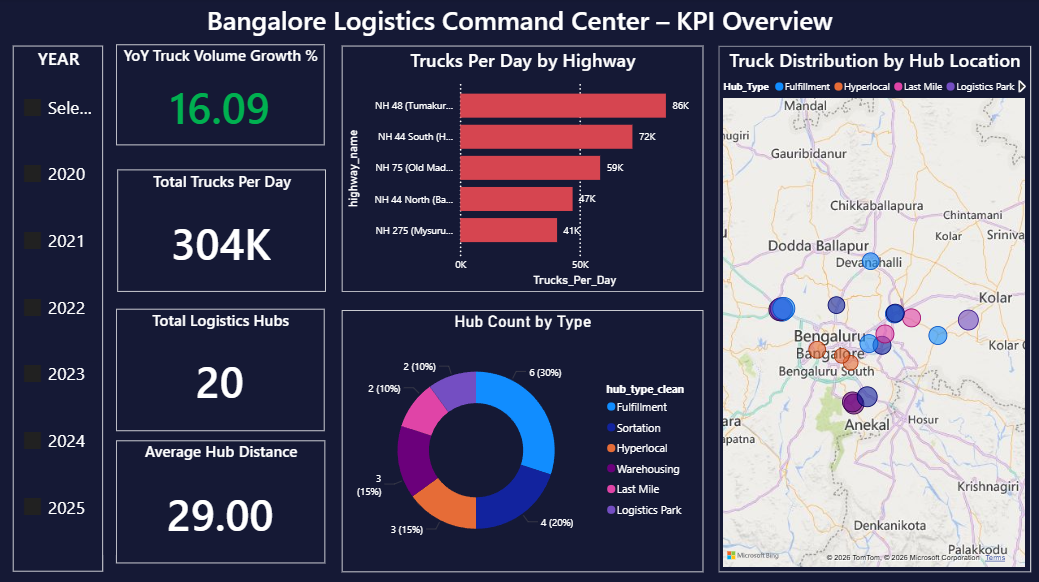

This screenshot's page, from the dashboard's own definition file:
{"tool":"powerbi","page":{"name":"Page 1","canvas":[1280,720],"ordinal":0},"visuals":[{"type":"textbox","box":[0,0,1280,57.4],"z":0},{"type":"slicer","title":"YEAR ","fields":{"Values":["Years.Year"]},"box":[16.1,59.2,111.1,647.2],"z":1000},{"type":"clusteredBarChart","title":"Trucks Per Day by Highway","fields":{"Category":["vw_logistics_time_series.highway_name"],"Y":["vw_logistics_time_series.Trucks_Per_Day"]},"box":[421.3,59.2,444.6,303],"z":2000},{"type":"donutChart","title":"Hub Count by Type","fields":{"Y":["CountNonNull(vw_hubs_zones_corridors.hub_id)"],"Category":["vw_hubs_zones_corridors.hub_type_clean"]},"box":[421.3,383.6,444.6,322.7],"z":3000},{"type":"cardVisual","title":"YoY Truck Volume Growth %","fields":{"Data":["Avg(vw_logistics_time_series.yoy_growth_pct)"]},"box":[143.4,57.4,256.4,123.7],"z":4000},{"type":"cardVisual","title":"Total Trucks Per Day","fields":{"Data":["vw_logistics_time_series.Total Trucks"]},"box":[145.3,211.9,256.3,150.4],"z":5000},{"type":"cardVisual","title":"Average Hub Distance","fields":{"Data":["Avg(vw_hubs_zones_corridors.distance_km)"]},"box":[142.9,544.7,257.3,150.9],"z":6000},{"type":"cardVisual","title":"Total Logistics Hubs","fields":{"Data":["vw_hubs_zones_corridors.Total Hubs"]},"box":[143.5,382.8,256.3,150.4],"z":7000},{"type":"map","title":"Truck Distribution by Hub Location","fields":{"Series":["vw_hubs_zones_corridors.hub_type_clean"],"Y":["vw_hubs_zones_corridors.hub_latitude"],"X":["vw_hubs_zones_corridors.hub_longitude"],"Size":["Sum(vw_hubs_zones_corridors.trucks_per_day)"]},"box":[884.5,58.8,384.3,647.9],"z":8000}]}

Visuals, with their boxes in screenshot pixels (x1, y1, x2, y2), scaled from the page's 1280x720 canvas onto the 1039x582 screenshot:
textbox: pyautogui.locateOnScreen(0, 0, 1038, 46)
"YEAR " slicer: pyautogui.locateOnScreen(13, 48, 103, 571)
"Trucks Per Day by Highway" clusteredBarChart: pyautogui.locateOnScreen(342, 48, 703, 293)
"Hub Count by Type" donutChart: pyautogui.locateOnScreen(342, 310, 703, 571)
"YoY Truck Volume Growth %" cardVisual: pyautogui.locateOnScreen(116, 46, 325, 146)
"Total Trucks Per Day" cardVisual: pyautogui.locateOnScreen(118, 171, 326, 293)
"Average Hub Distance" cardVisual: pyautogui.locateOnScreen(116, 440, 325, 562)
"Total Logistics Hubs" cardVisual: pyautogui.locateOnScreen(116, 309, 325, 431)
"Truck Distribution by Hub Location" map: pyautogui.locateOnScreen(718, 48, 1030, 571)
